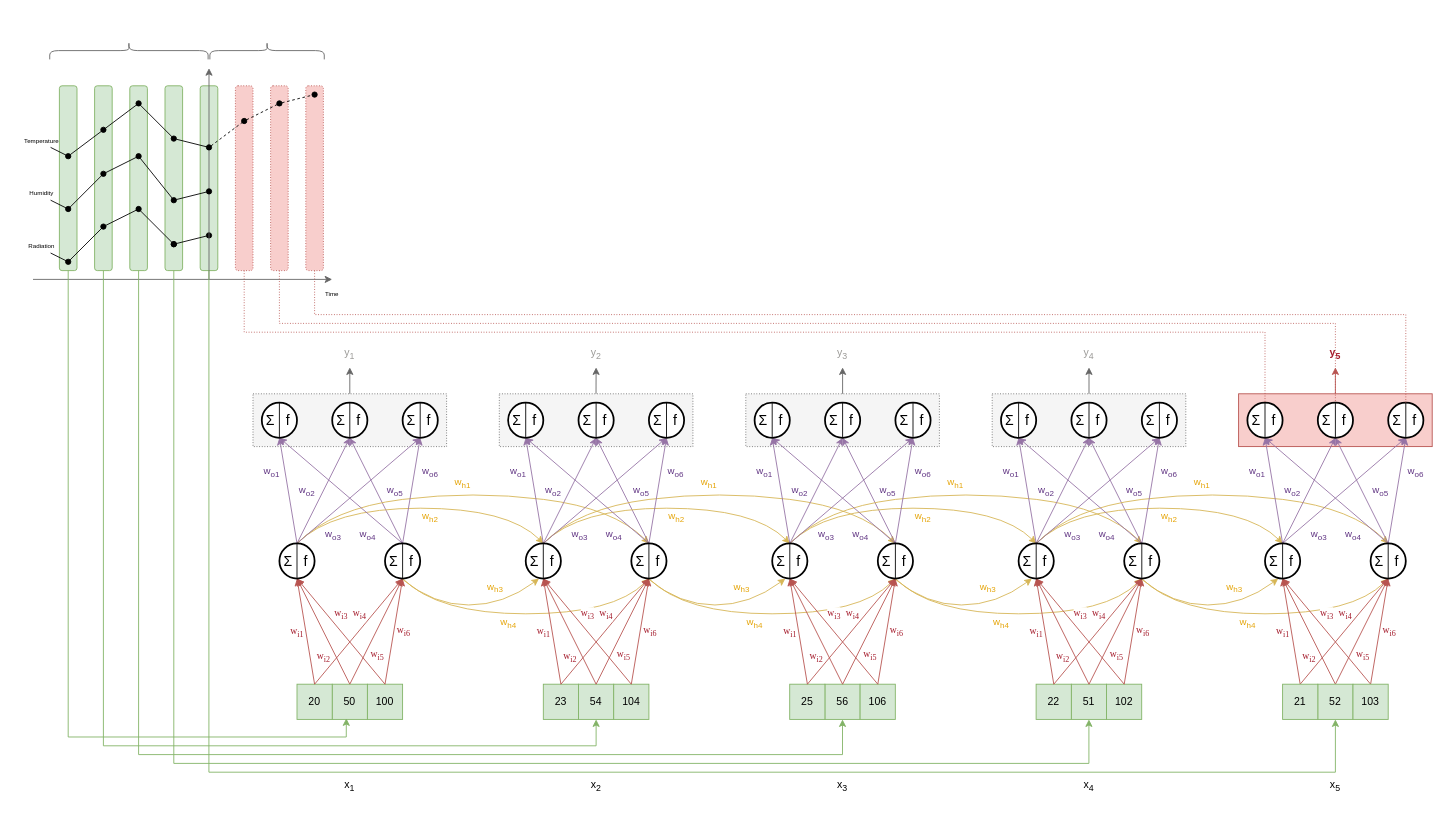
Some shapes in this 1448 by 813 pixel diagram are drawn without their labels. Each missing label, with the centre of its shape:
Future: pixel 266 50
Past: pixel 128 50
